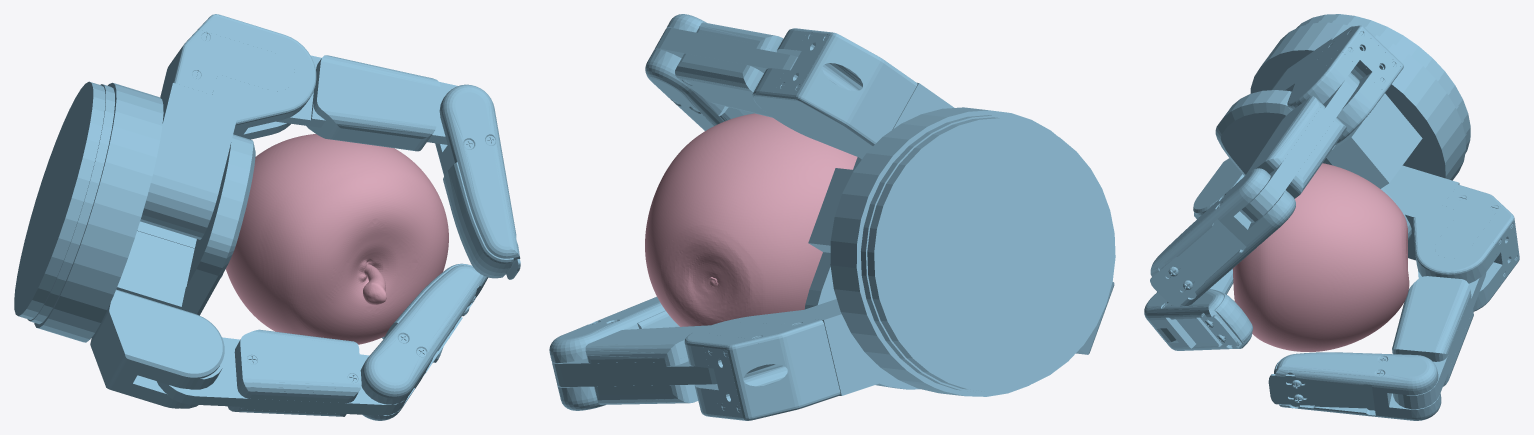
3 views of the same model, side by side, from view 1: azimuth 30°, elevation 25°; view 2: azimuth 150°, elevation 25°; view 3: azimuth 270°, elevation 25° (orthographic). The views are drawn at different scales.
Visible parts, largest first — view 1: world; view 2: world; view 3: world.
Part boxes in pixels (x1=…): world: x1=14, y1=14, x2=520, y2=420; world: x1=549, y1=14, x2=1115, y2=420; world: x1=1144, y1=14, x2=1519, y2=420.
Bounding box in the file's own units: 0.1735 × 0.1374 × 0.1504.
